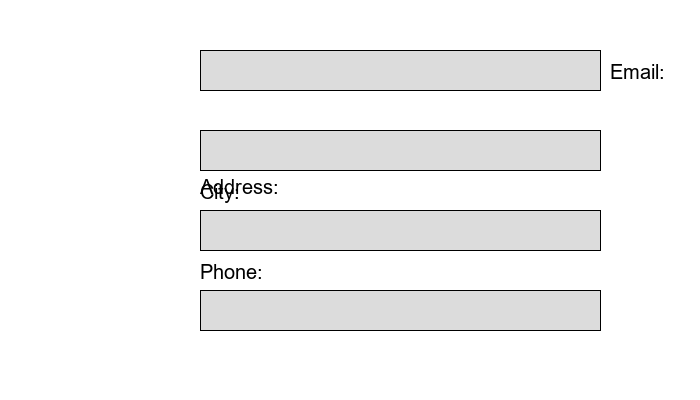Label: (200, 175, 274, 190), (200, 260, 257, 275), (610, 60, 659, 75), (200, 180, 234, 199)
Textbox: (200, 50, 600, 90), (200, 130, 600, 170), (200, 210, 600, 250), (200, 290, 600, 330)
